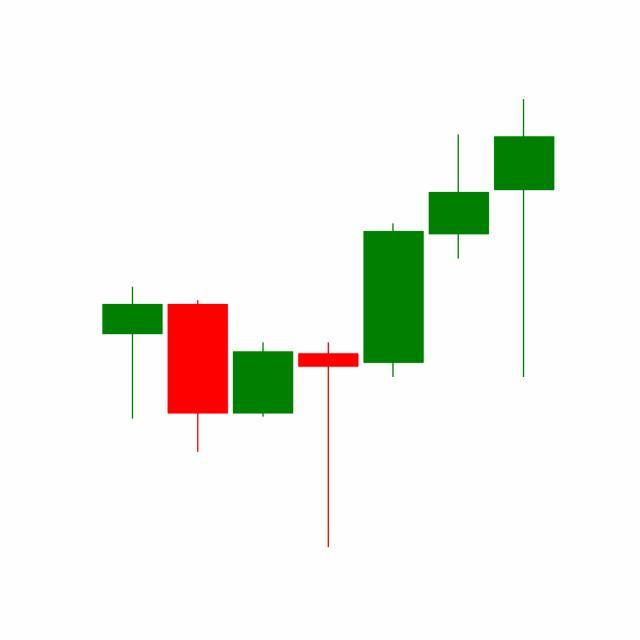Advance Block: (360, 100, 556, 383)
